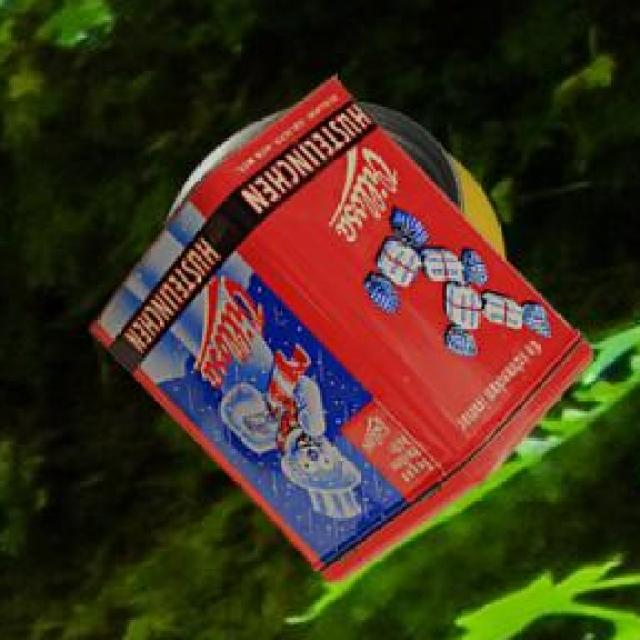logam: (86, 72, 590, 581), (166, 99, 501, 254)
